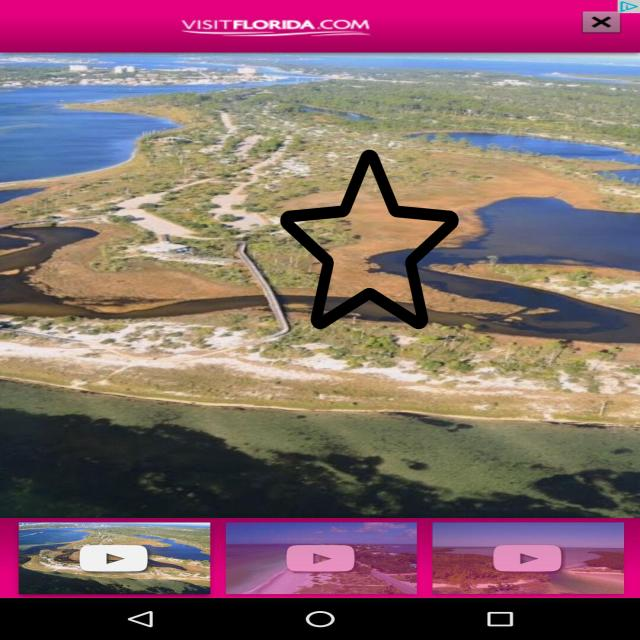forced continuity: (280, 146, 459, 333)
